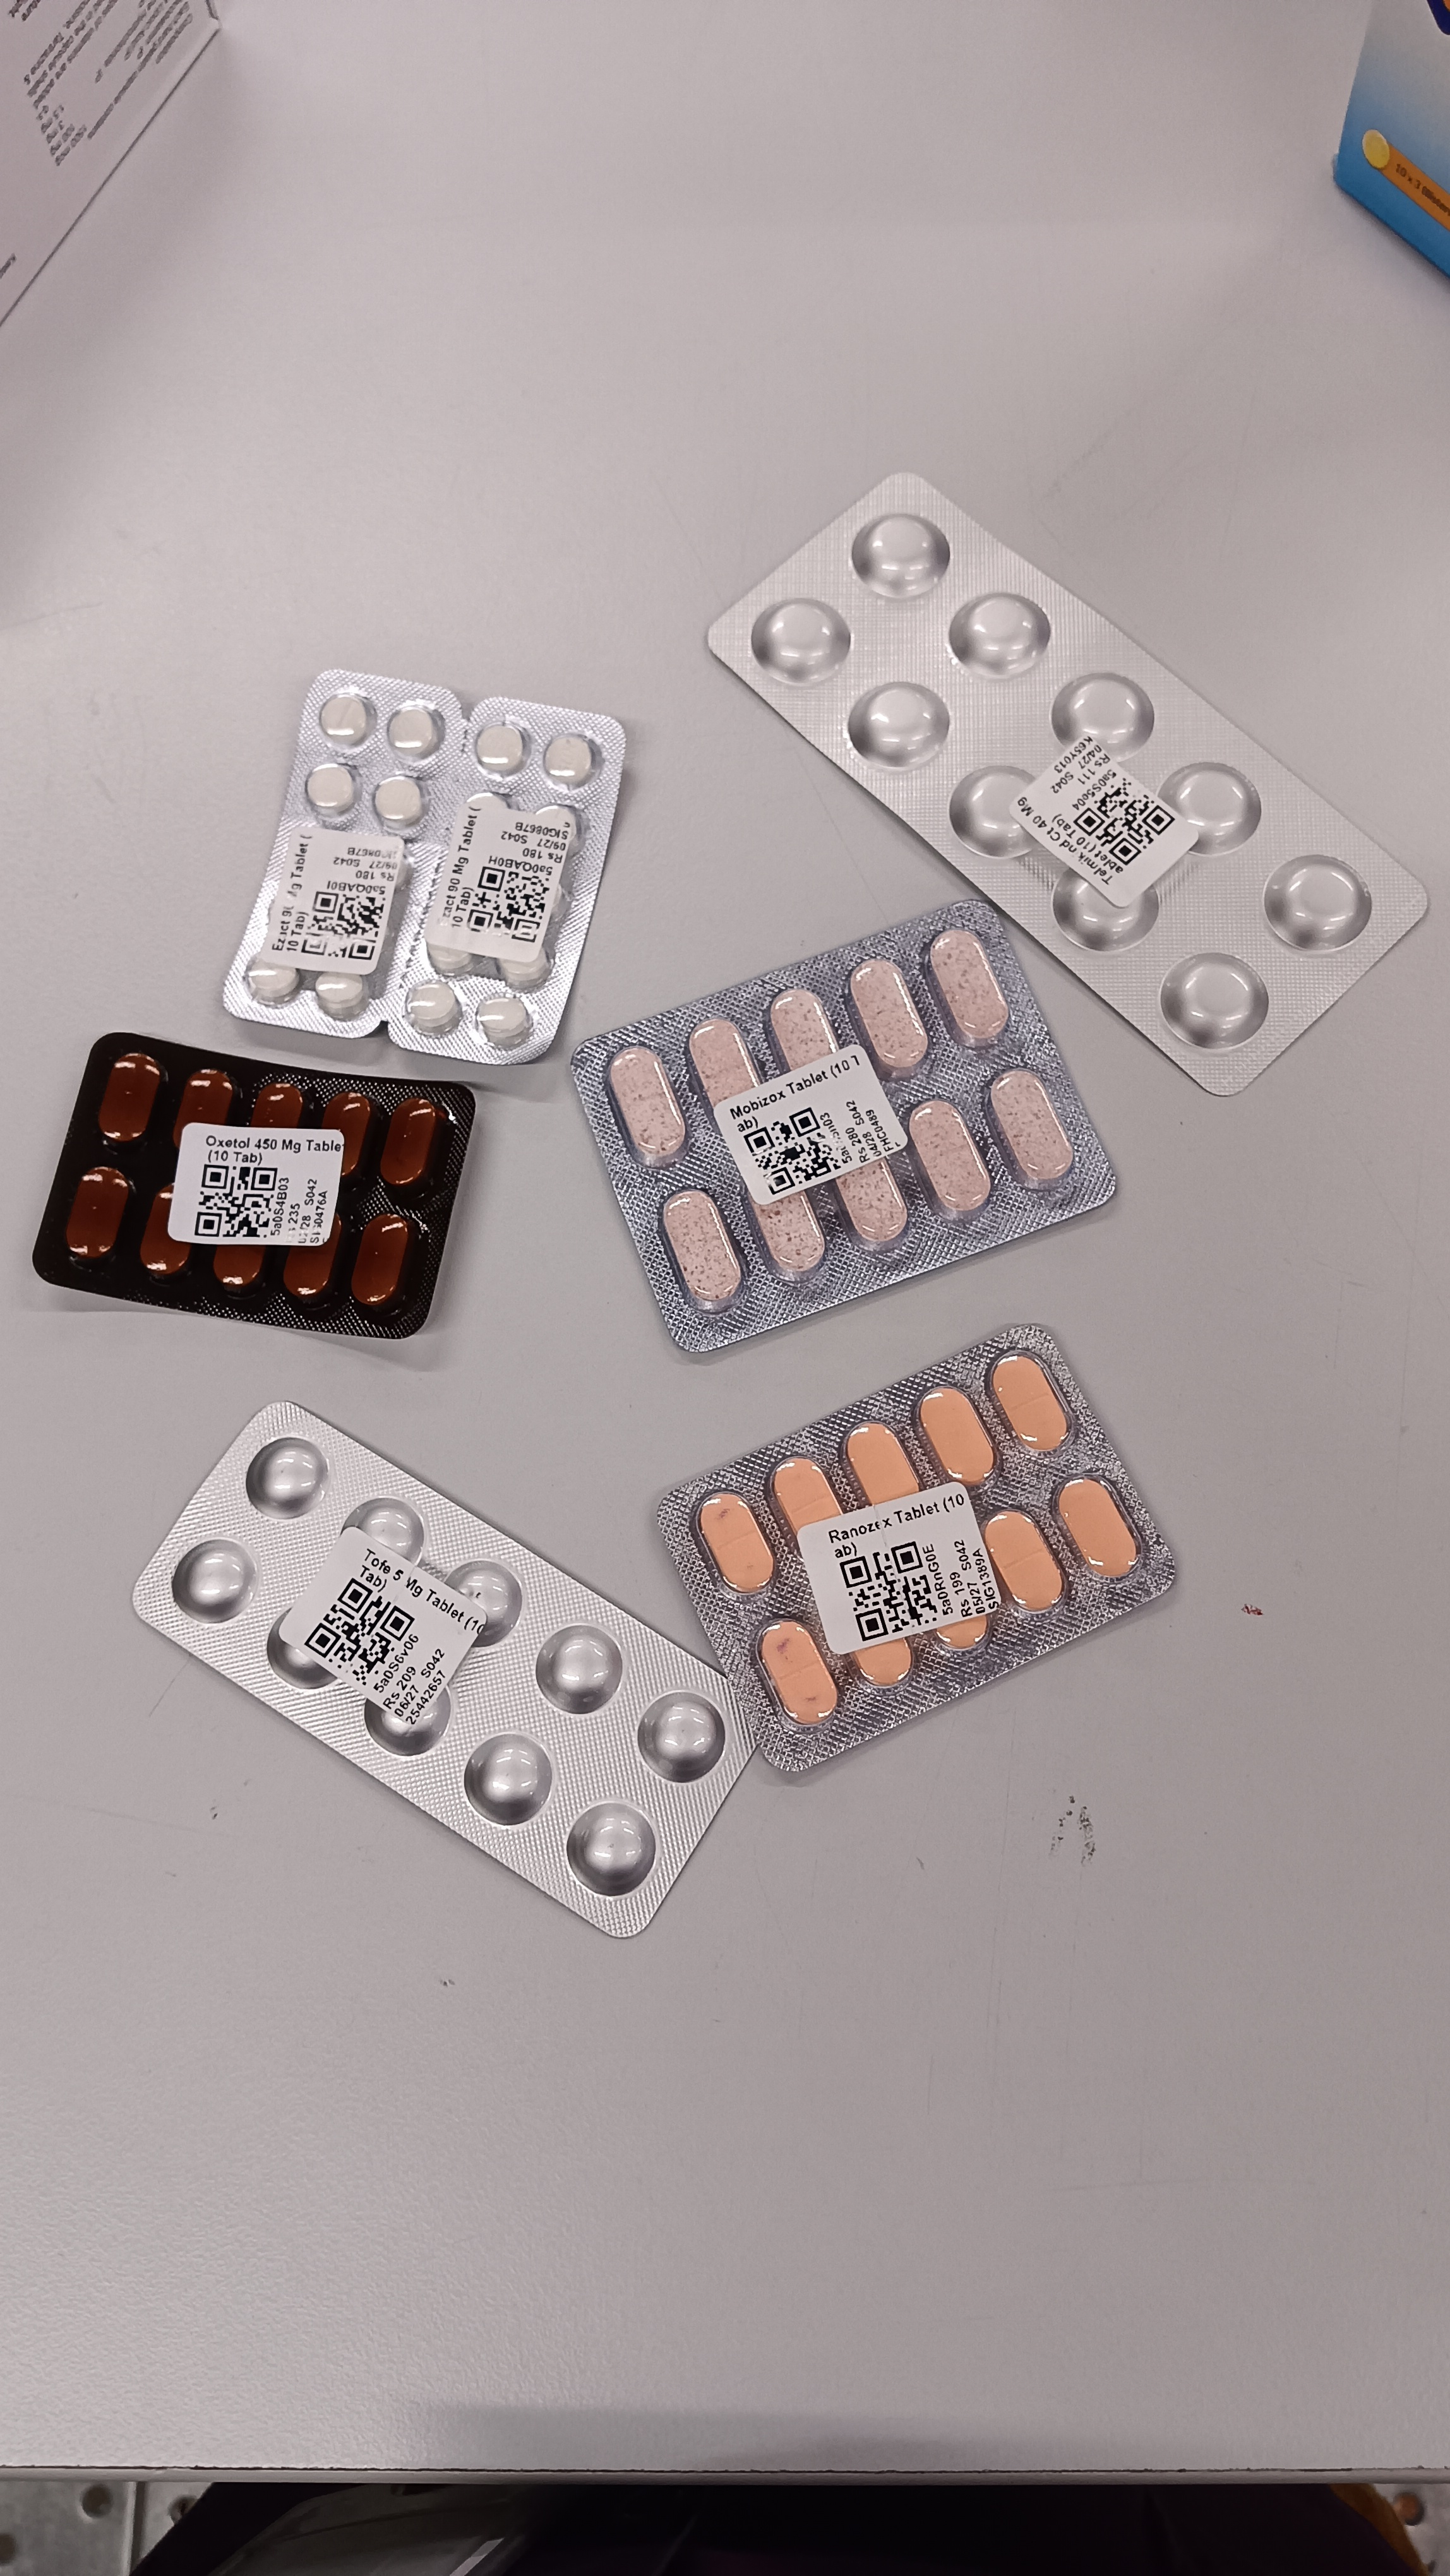QR: (839, 1490, 940, 1591)
